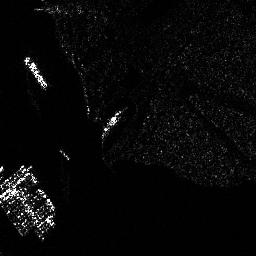ship: (23, 55, 48, 90), (103, 107, 123, 132)
